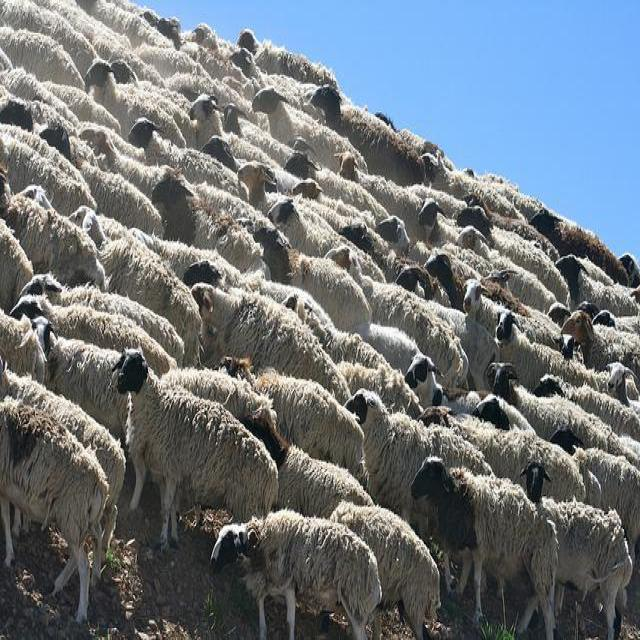Sheep: (0, 0, 639, 588), (114, 346, 278, 558), (408, 454, 558, 633), (0, 396, 105, 620), (209, 511, 382, 639), (219, 355, 369, 487), (192, 283, 351, 406), (522, 464, 634, 638), (416, 406, 587, 504), (280, 295, 424, 409), (332, 499, 440, 636), (244, 417, 371, 526), (484, 360, 611, 450), (126, 117, 249, 202), (339, 223, 452, 309), (560, 313, 639, 379), (267, 196, 340, 258), (373, 216, 432, 267)
